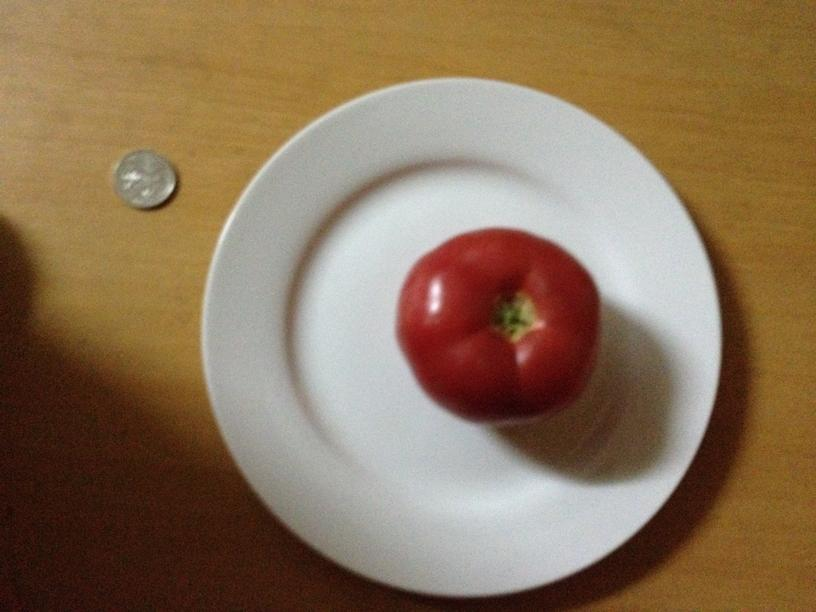coin: (110, 150, 175, 210)
tomato: (393, 226, 601, 428)
